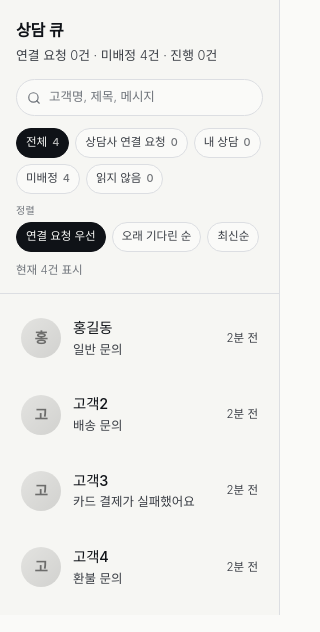
Scenario: QueuePanel › 고객명, 제목, 마지막 메시지, handoffReason 기준으로 검색한다
This screenshot has width=320, height=632.
Type "카드" into the field named "상담 큐 검색" at point(150, 98), box [49,88,252,107]
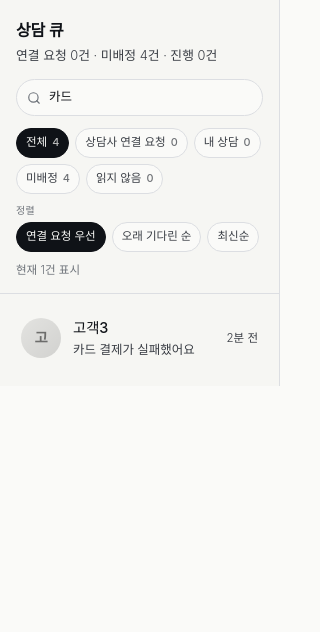
Expected: the button "홍길동" is gone
Expected: the button "고객2" is gone
Expected: the button "고객4" is gone
